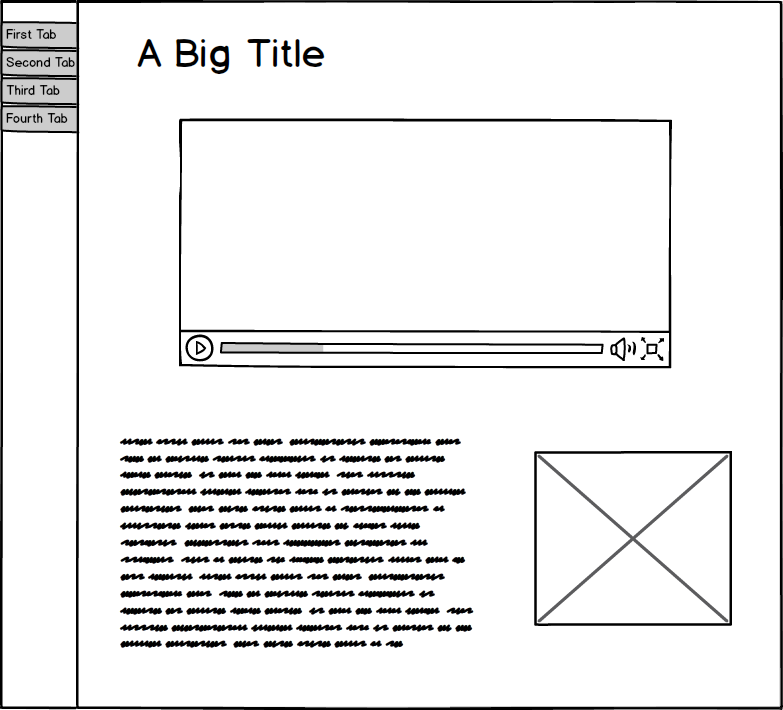h1: (125, 30, 332, 76)
image: (528, 444, 740, 632)
p: (116, 428, 485, 656)
sidebar: (1, 17, 91, 143)
video: (174, 112, 677, 374)
